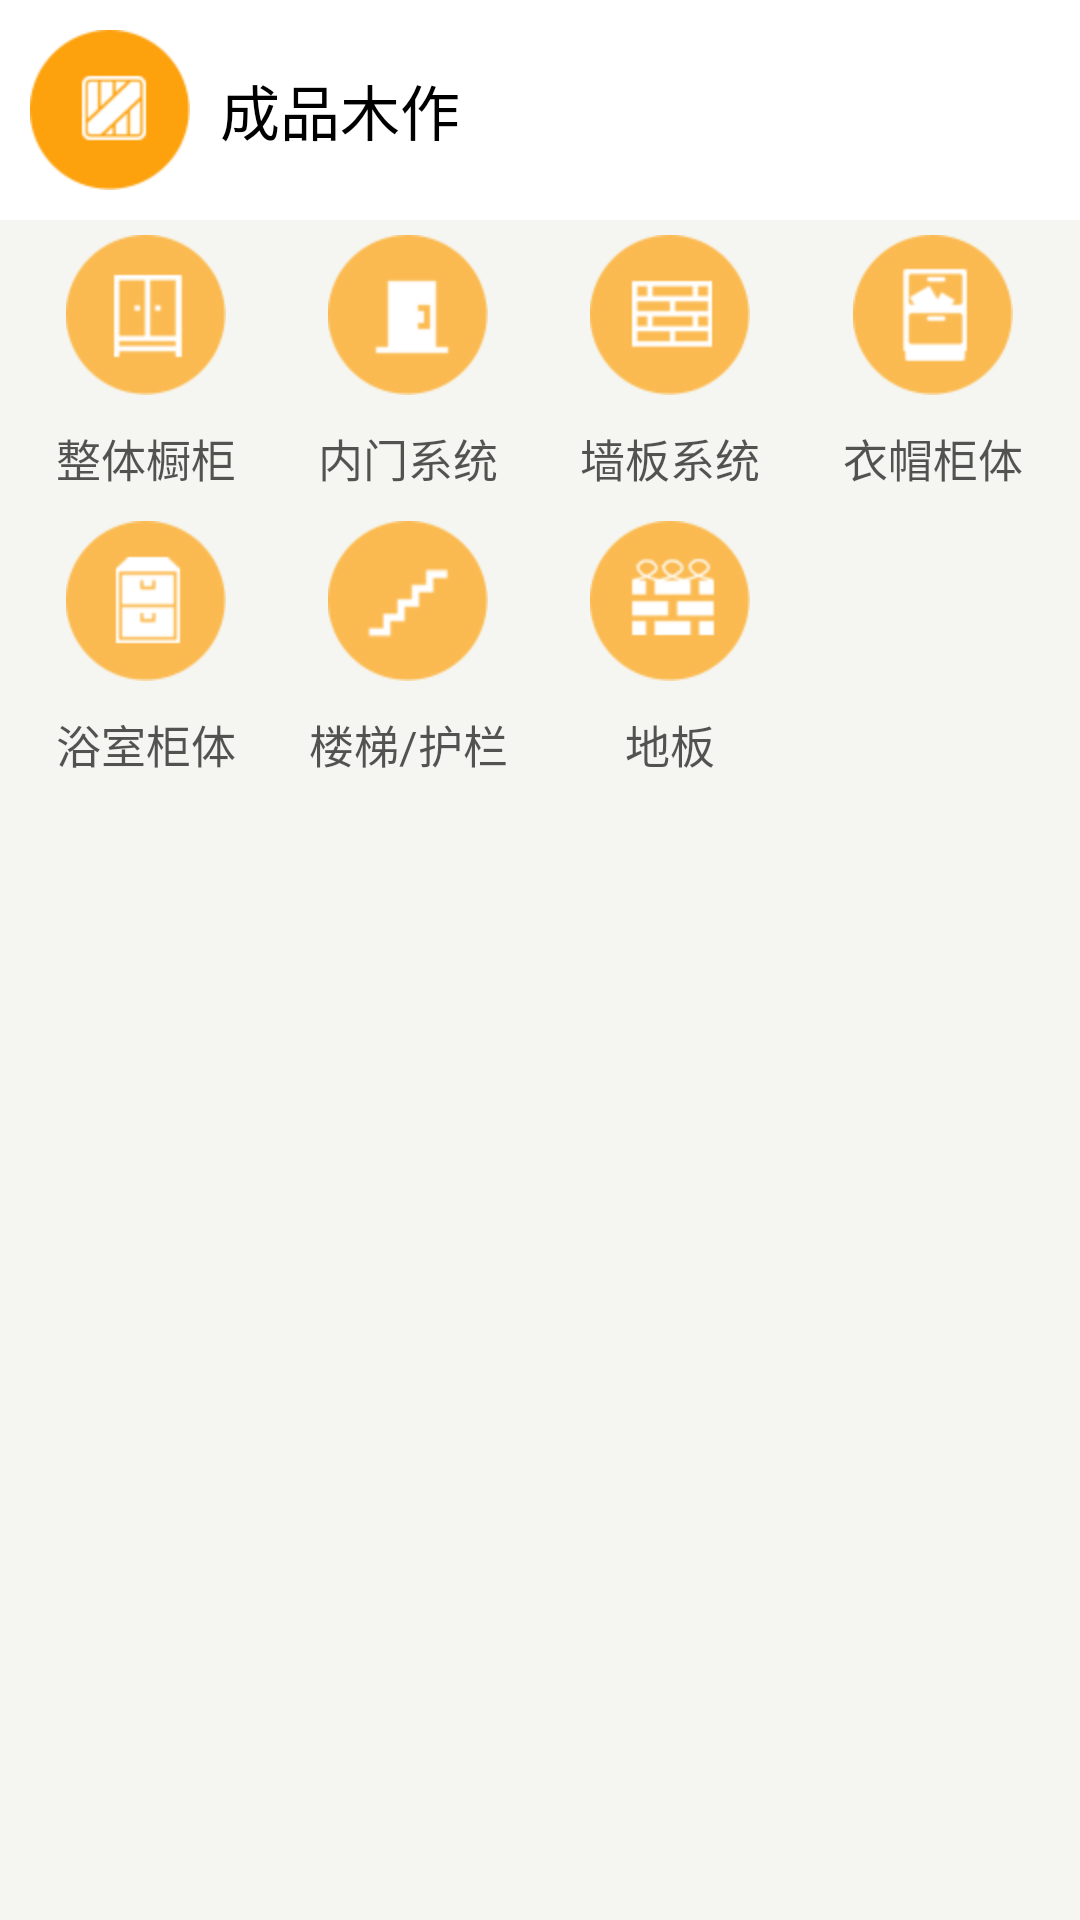

Where to tap for icons on this 1080*1920 app screen, as (x,y):
left menu wooden: (110,110)
